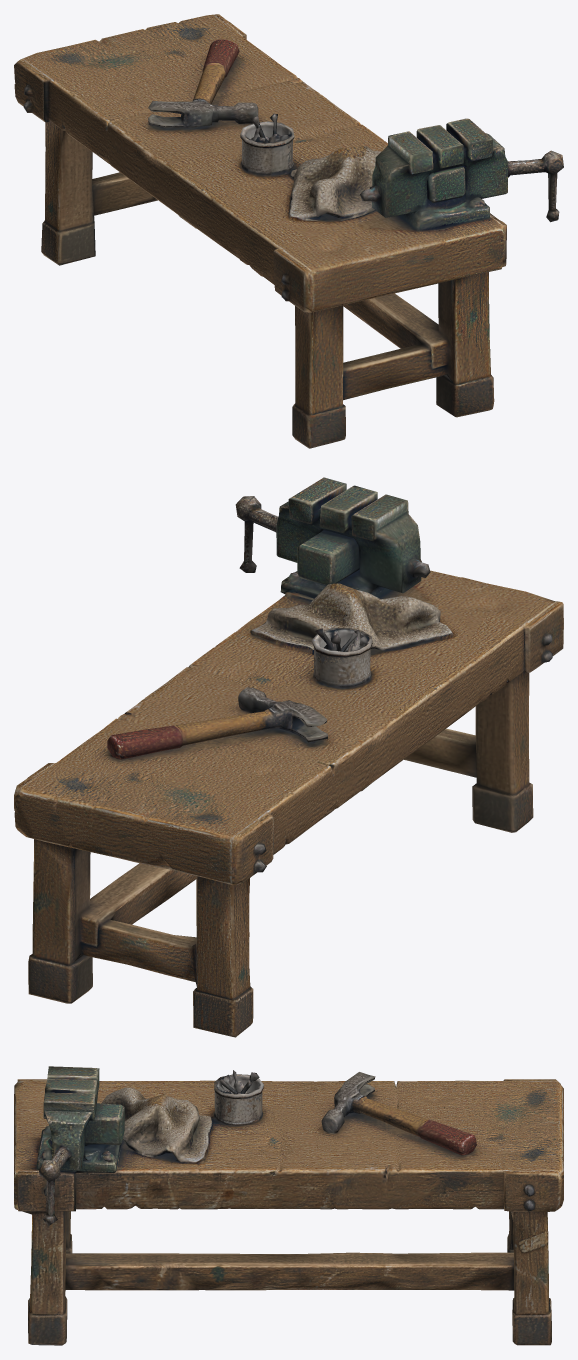
Rendered from OfficeToolTable.fbx.
3 renders of one model, top to bottom at view 1: azimuth 30°, elevation 25°; view 2: azimuth 150°, elevation 25°; view 3: azimuth 270°, elevation 25°, orthographic. The views are drawn at different scales.
Parts seen in each view (by area): view 1: tripo_node_d881e339-63b0-49c4-bc43-fa1f503bbb1d; view 2: tripo_node_d881e339-63b0-49c4-bc43-fa1f503bbb1d; view 3: tripo_node_d881e339-63b0-49c4-bc43-fa1f503bbb1d.
Part boxes in pixels (x1,y1,x2,y2): tripo_node_d881e339-63b0-49c4-bc43-fa1f503bbb1d: (14,14,563,448); tripo_node_d881e339-63b0-49c4-bc43-fa1f503bbb1d: (14,477,563,1037); tripo_node_d881e339-63b0-49c4-bc43-fa1f503bbb1d: (14,1066,563,1345).
Size of the model in its own units: 55.5 by 49.81 by 100.
Materials: 1 (1 with a texture image).
